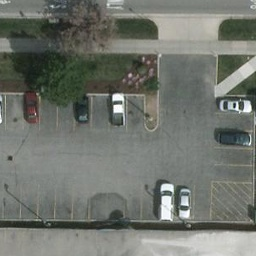car: (153, 182, 176, 221), (218, 95, 255, 114), (214, 129, 254, 145), (108, 93, 126, 128), (24, 91, 40, 125), (74, 90, 90, 123), (177, 185, 193, 215)
